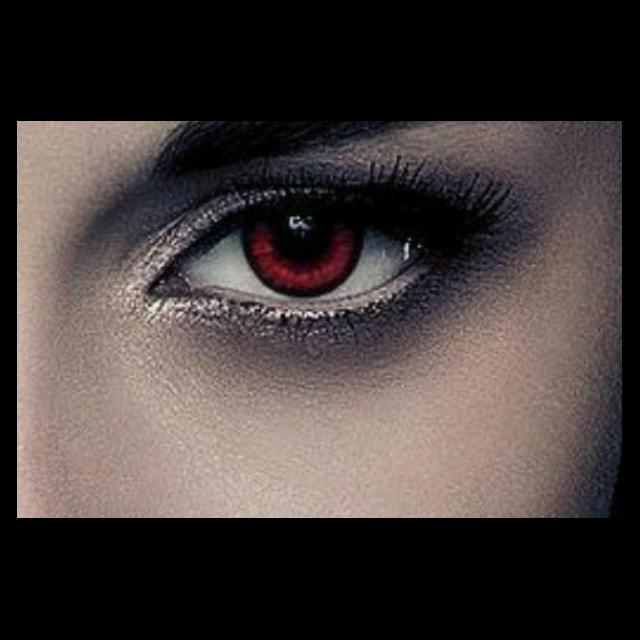eye: (190, 214, 419, 302)
iris: (245, 222, 365, 297)
